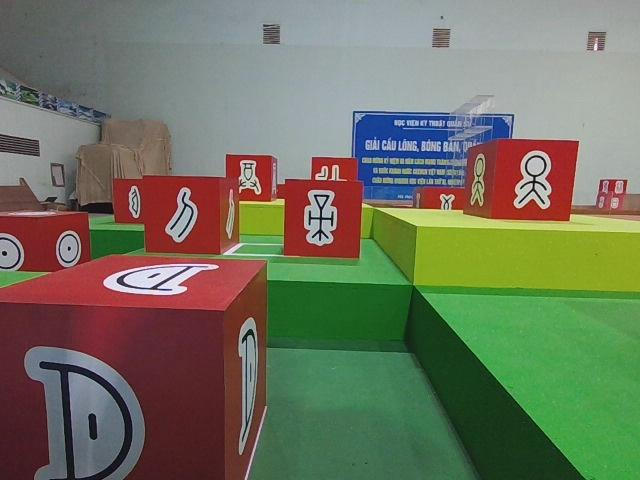R2 Real: (0, 250, 269, 480), (461, 135, 582, 224), (139, 174, 241, 256), (280, 176, 365, 259), (0, 206, 93, 281), (223, 152, 279, 206), (110, 174, 162, 226)
